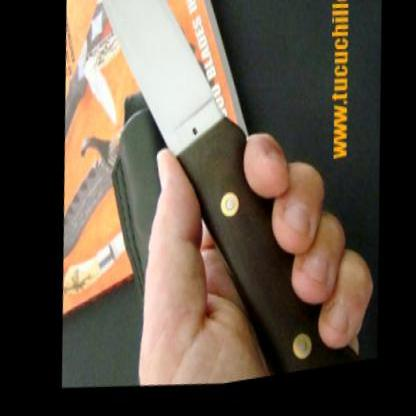knife: (49, 0, 393, 405)
